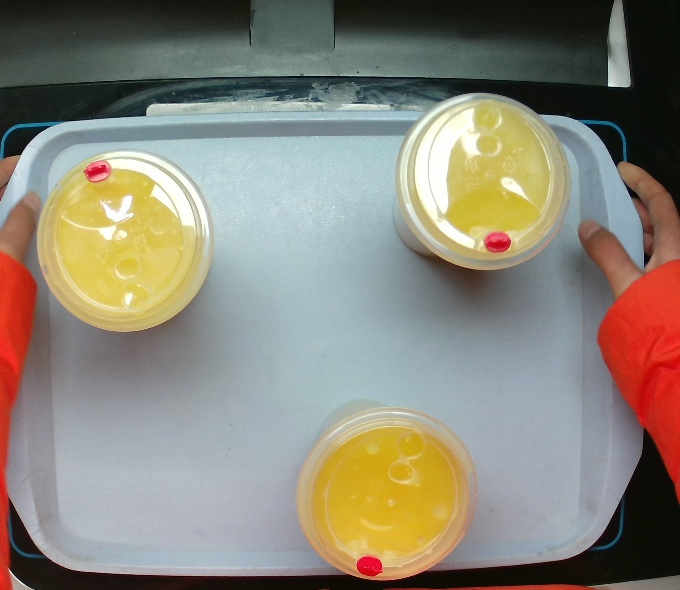wcq-ChengZhi: (289, 396, 477, 583), (33, 148, 218, 338), (391, 89, 573, 274)
